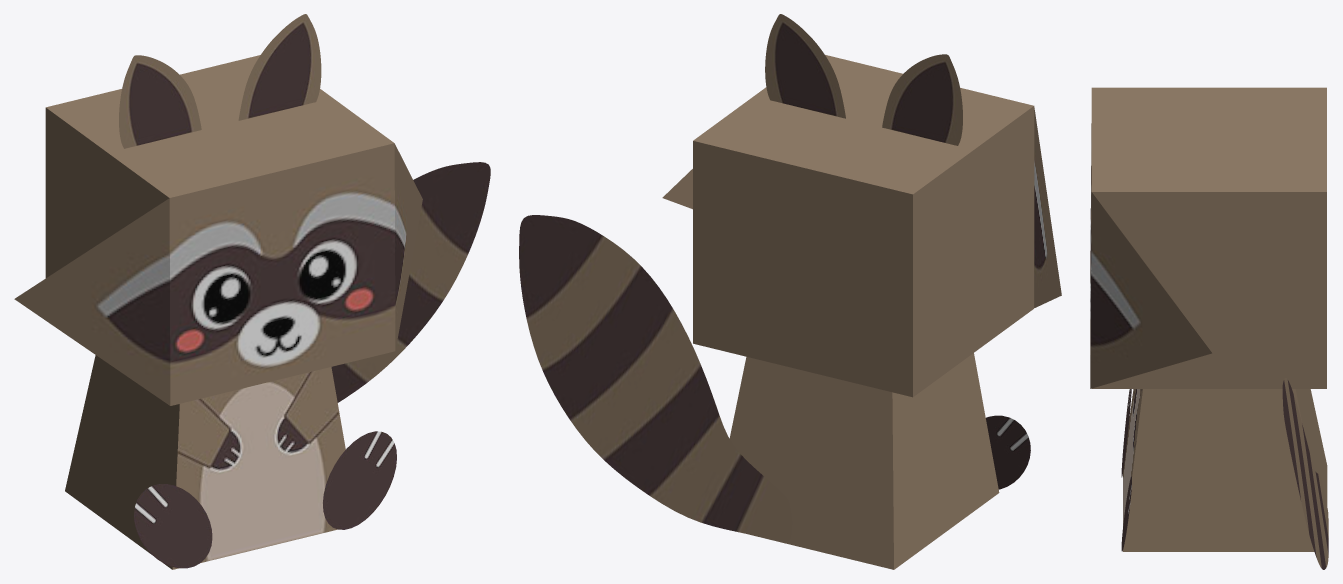
File: Mapache.glb
The picture shows the model from 3 angles, left to right: view 1: azimuth 30°, elevation 25°; view 2: azimuth 150°, elevation 25°; view 3: azimuth 270°, elevation 25°; orthographic projection. The views are drawn at different scales.
Parts seen in each view (by area): view 1: Plane.001; view 2: Plane.001; view 3: Plane.001.
Boxes of the visible parts, x1=… form: Plane.001: x1=14, y1=14, x2=490, y2=569; Plane.001: x1=519, y1=14, x2=1061, y2=569; Plane.001: x1=1090, y1=87, x2=1328, y2=569.
Size of the model in its own units: 0.4678 by 0.417 by 0.1975.
Materials: 1 (1 with a texture image).
